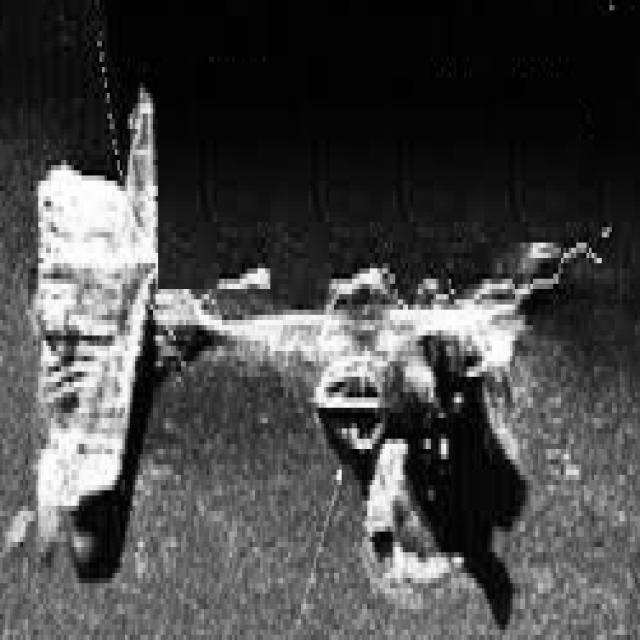plane: (20, 72, 561, 552)
